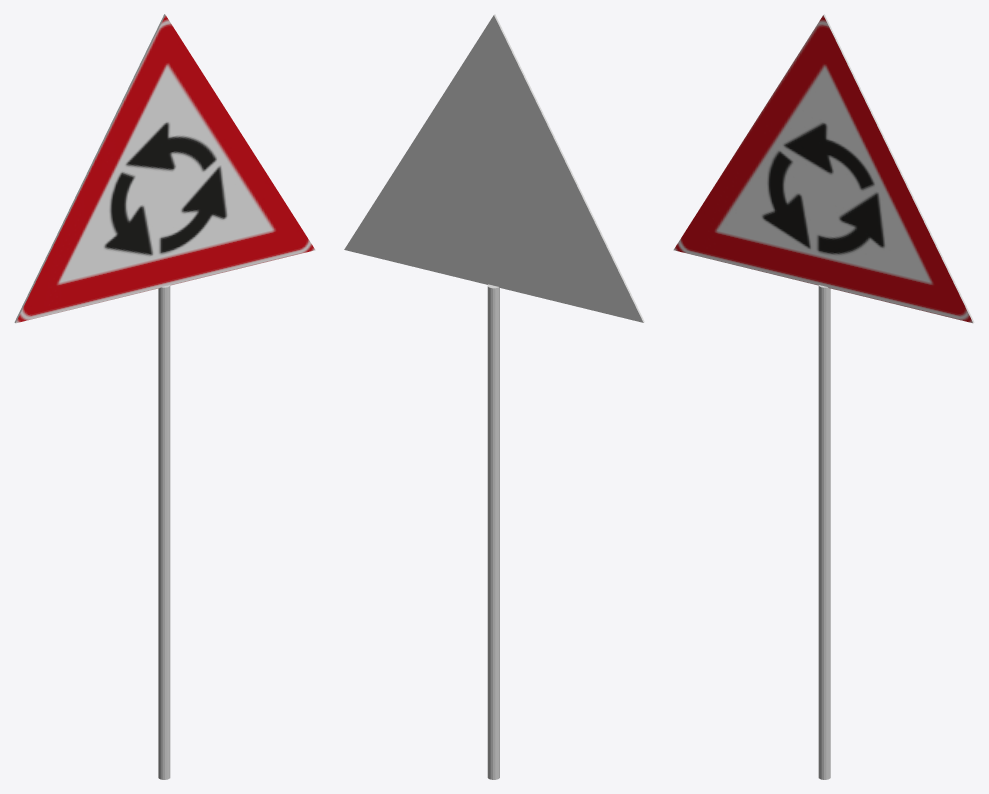
Rendered from donel_kavsak.fbx.
The picture shows the model from 3 angles, left to right: view 1: azimuth 30°, elevation 25°; view 2: azimuth 150°, elevation 25°; view 3: azimuth 330°, elevation 25°; orthographic projection.
Visible parts, largest first — view 1: donel_kavsak; view 2: donel_kavsak; view 3: donel_kavsak.
Part boxes in pixels (<box>): donel_kavsak: <box>14,14,315,779</box>; donel_kavsak: <box>344,14,644,779</box>; donel_kavsak: <box>673,14,974,779</box>.
Bounding box in the file's own units: 140 × 341 × 5.
Materials: 2 (1 with a texture image).
